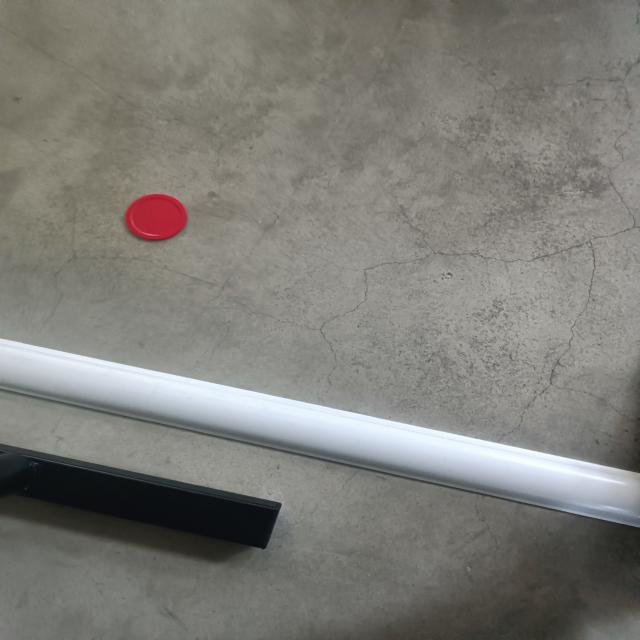chip: (122, 192, 192, 243)
